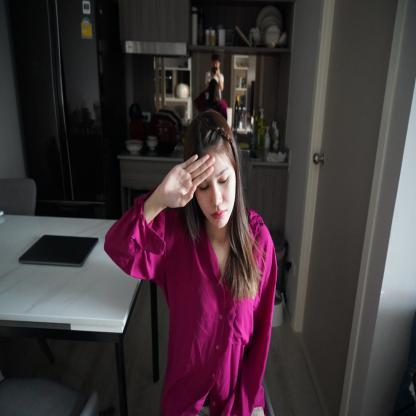Sick: (152, 148, 223, 212)
